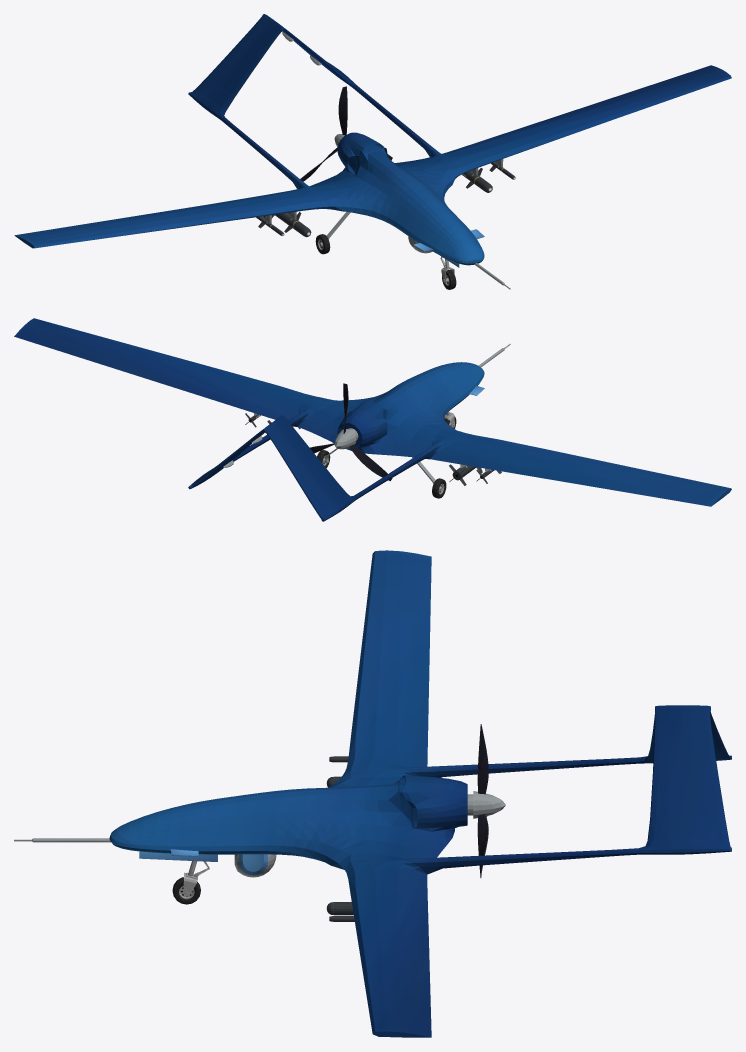
File: dragon.glb
The picture shows the model from 3 angles, top to bottom: view 1: azimuth 30°, elevation 25°; view 2: azimuth 150°, elevation 25°; view 3: azimuth 270°, elevation 25°; orthographic projection. The views are drawn at different scales.
Size of the model in its own units: 11.96 by 2.3 by 7.54.
3 materials, 3 textured.
